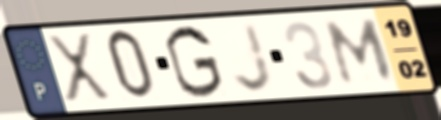0: (104, 27, 159, 105)
3: (282, 18, 334, 91)
G: (162, 23, 226, 100)
J: (230, 21, 277, 95)
M: (323, 17, 398, 88)
X: (43, 30, 116, 104)
